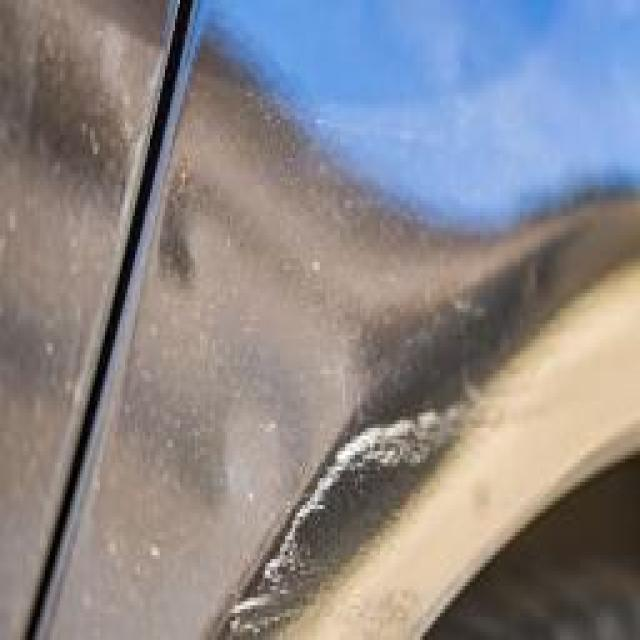Fender: (228, 370, 530, 640)
